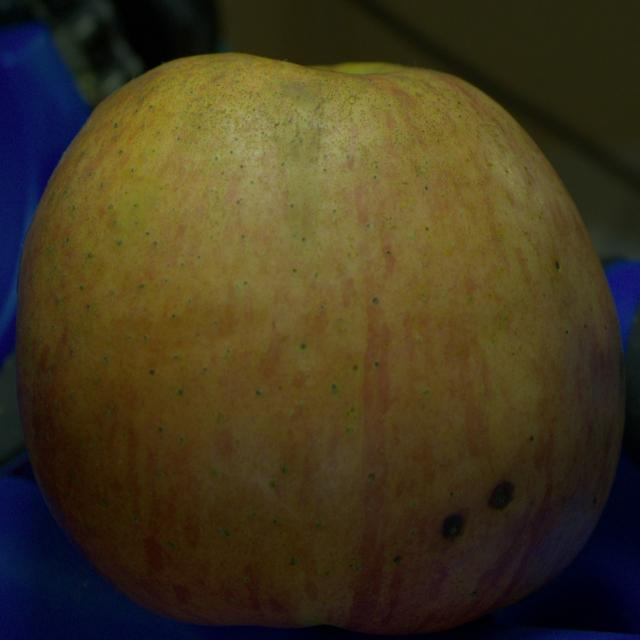apple: (15, 54, 624, 634)
pest: (489, 481, 514, 509), (441, 513, 465, 539), (556, 261, 559, 269)
